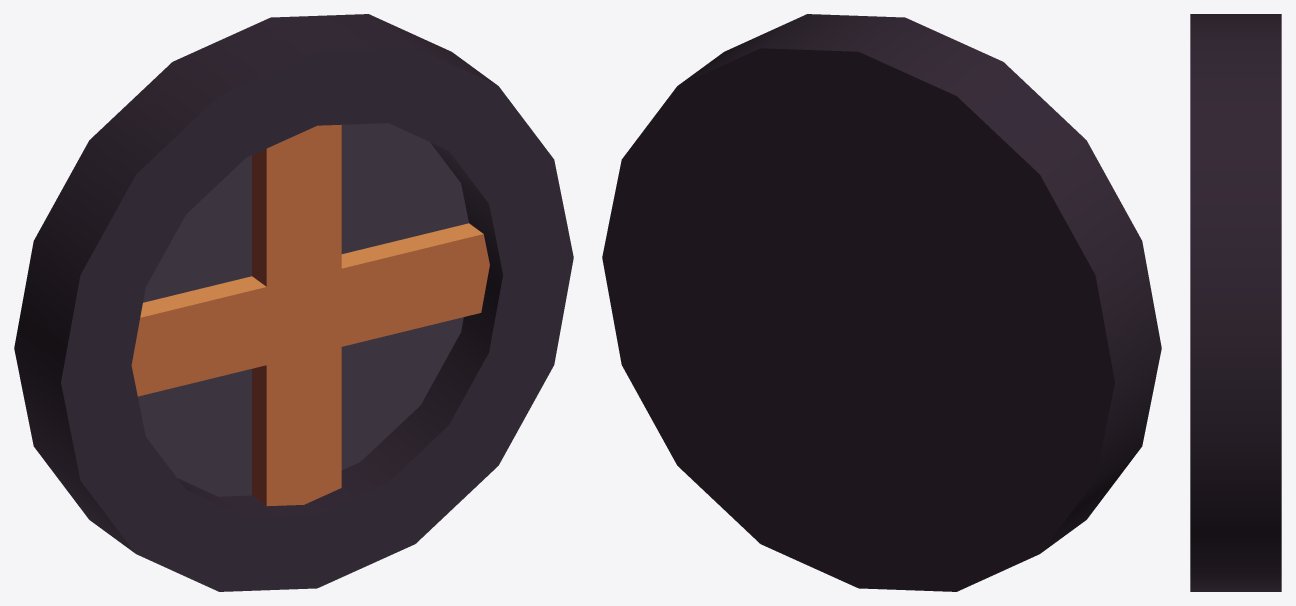
File: SmallWindow02_Black_Wood.glb
3 views of the same model, side by side, from view 1: azimuth 30°, elevation 25°; view 2: azimuth 150°, elevation 25°; view 3: azimuth 270°, elevation 25° (orthographic). The views are drawn at different scales.
Parts seen in each view (by area): view 1: SmallWindow02_Black_Wood; view 2: SmallWindow02_Black_Wood; view 3: SmallWindow02_Black_Wood.
Part boxes in pixels (<box>): SmallWindow02_Black_Wood: <box>14,14,573,591</box>; SmallWindow02_Black_Wood: <box>602,14,1161,591</box>; SmallWindow02_Black_Wood: <box>1190,14,1281,591</box>.
Size of the model in its own units: 0.5633 by 0.5633 by 0.089.
1 material, 1 textured.
